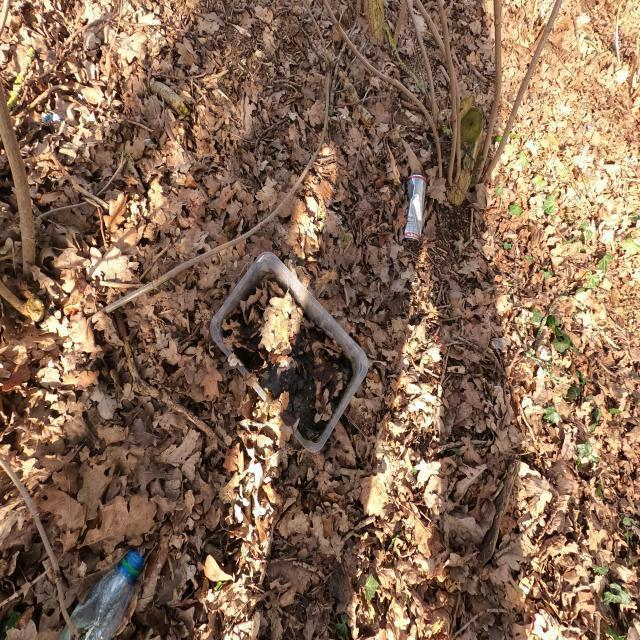Can-Metal: (400, 173, 428, 250)
Paper: (208, 249, 370, 456)
Plastic: (48, 545, 157, 640), (41, 111, 65, 126)
